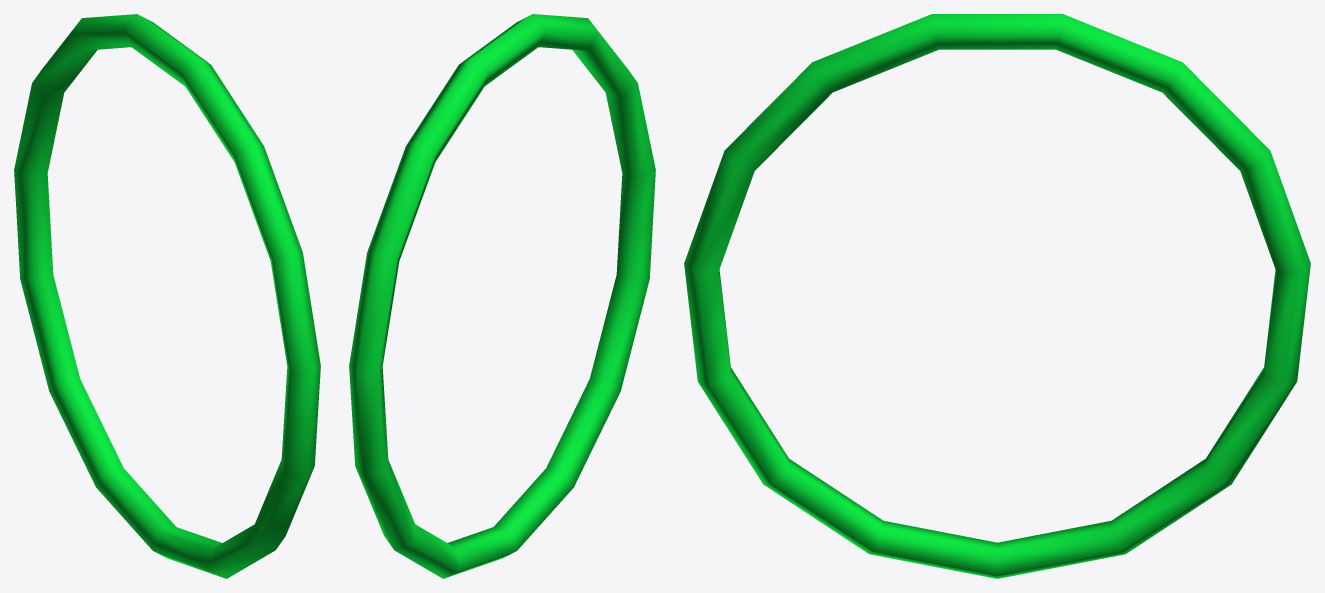
File: Pipe_Ring_360.fbx
3 views of the same model, side by side, from view 1: azimuth 30°, elevation 25°; view 2: azimuth 150°, elevation 25°; view 3: azimuth 270°, elevation 25° (orthographic). The views are drawn at different scales.
Visible parts, largest first — view 1: Pipe_Ring_360; view 2: Pipe_Ring_360; view 3: Pipe_Ring_360.
Boxes of the visible parts, x1,y1,x2,y2 form: Pipe_Ring_360: [14, 14, 320, 578]; Pipe_Ring_360: [349, 14, 655, 578]; Pipe_Ring_360: [684, 14, 1310, 578].
Bounding box in the file's own units: 0.2254 × 3.84 × 3.86.
